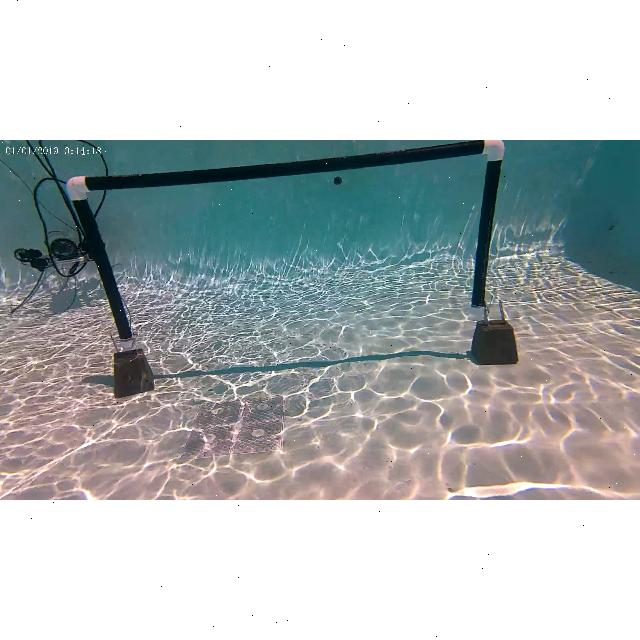prequal gate: (66, 140, 504, 350)
prequal gate leg l: (61, 176, 157, 397)
prequal gate leg r: (461, 140, 521, 368)
